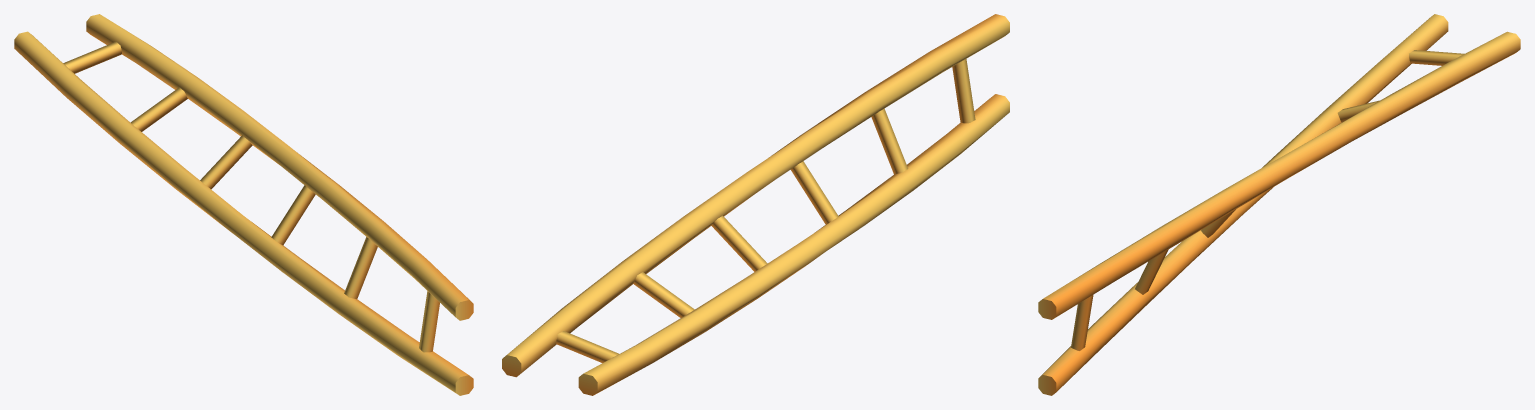
File: kenney-coaster-coaster-mouse-straight-skew-right-side.glb
The picture shows the model from 3 angles, left to right: view 1: azimuth 30°, elevation 25°; view 2: azimuth 150°, elevation 25°; view 3: azimuth 330°, elevation 25°; orthographic projection. The views are drawn at different scales.
Visible parts, largest first — view 1: coaster-mouse-straight-skew-right-side; view 2: coaster-mouse-straight-skew-right-side; view 3: coaster-mouse-straight-skew-right-side.
Part boxes in pixels (x1=…): coaster-mouse-straight-skew-right-side: x1=14, y1=14, x2=473, y2=395; coaster-mouse-straight-skew-right-side: x1=502, y1=14, x2=1009, y2=395; coaster-mouse-straight-skew-right-side: x1=1038, y1=14, x2=1520, y2=395.
Bounding box in the file's own units: 0.5103 × 0.5103 × 4.
1 material, 1 textured.
